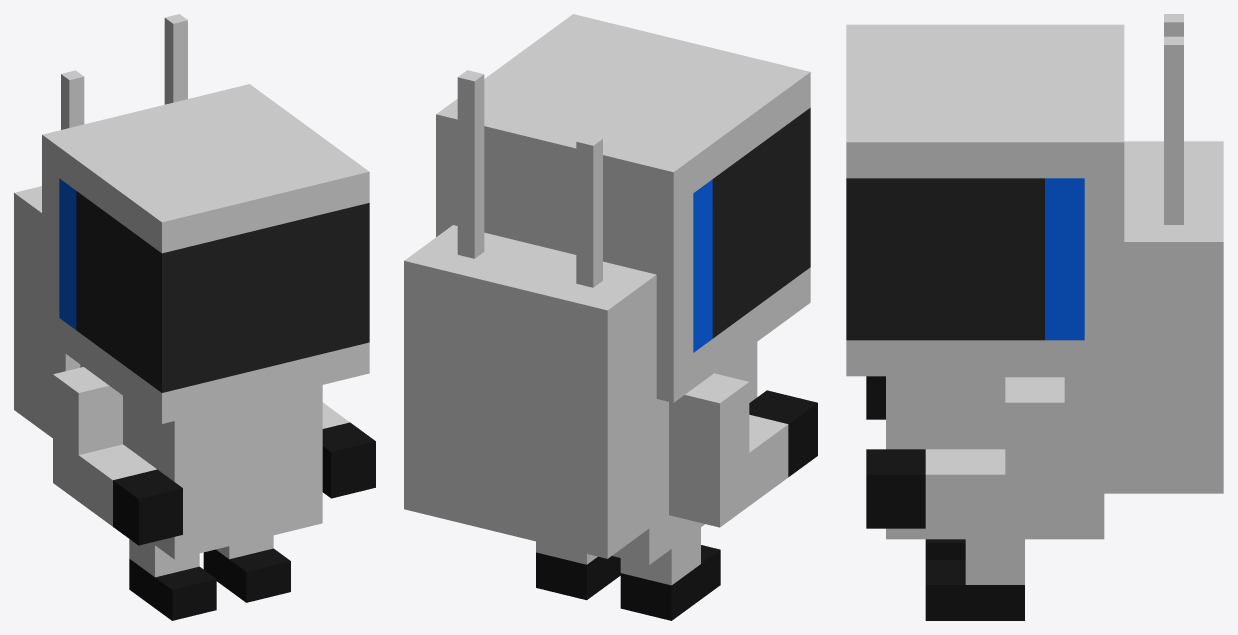
File: spaceman.obj
3 renders of one model, left to right at view 1: azimuth 30°, elevation 25°; view 2: azimuth 150°, elevation 25°; view 3: azimuth 270°, elevation 25°, orthographic. The views are drawn at different scales.
Size of the model in its own units: 1.6 by 3.2 by 1.9.
Materials: 1 (1 with a texture image).
